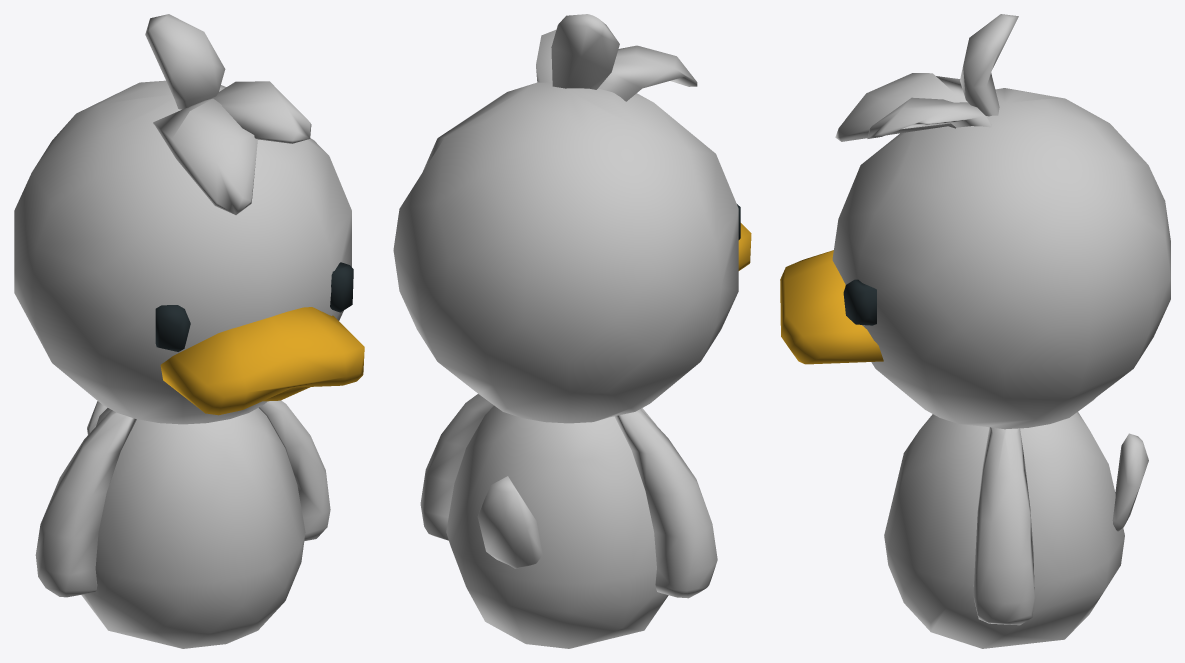
File: duck.glb
3 renders of one model, left to right at view 1: azimuth 30°, elevation 25°; view 2: azimuth 150°, elevation 25°; view 3: azimuth 270°, elevation 25°, orthographic. The views are drawn at different scales.
Visible parts, largest first — view 1: character_duck; view 2: character_duck; view 3: character_duck.
Part boxes in pixels (x1,y1,x2,y2): character_duck: (14, 14, 364, 648); character_duck: (393, 14, 751, 648); character_duck: (780, 14, 1170, 648).
Size of the model in its own units: 0.983 by 1.89 by 1.14.
